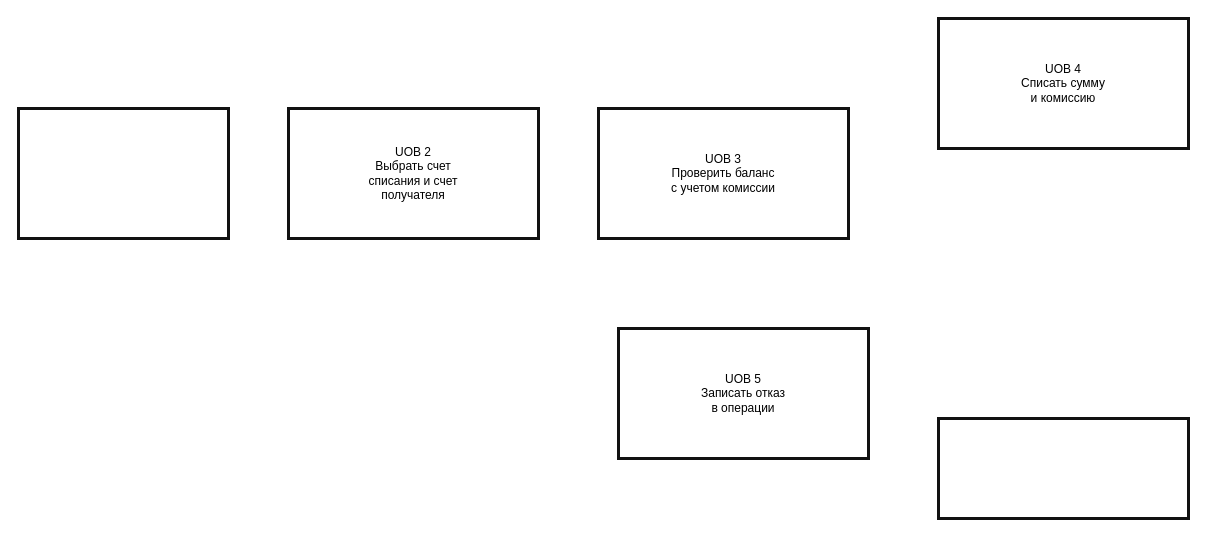
Image size: 1207x537. Some labels were removed from this diagram. Each missing label, with the centre of its shape:
"UOB 1 Выполнить авторизацию" goes at [123,173].
"UOB 6 Сохранить транзакцию" goes at [1063,468].
